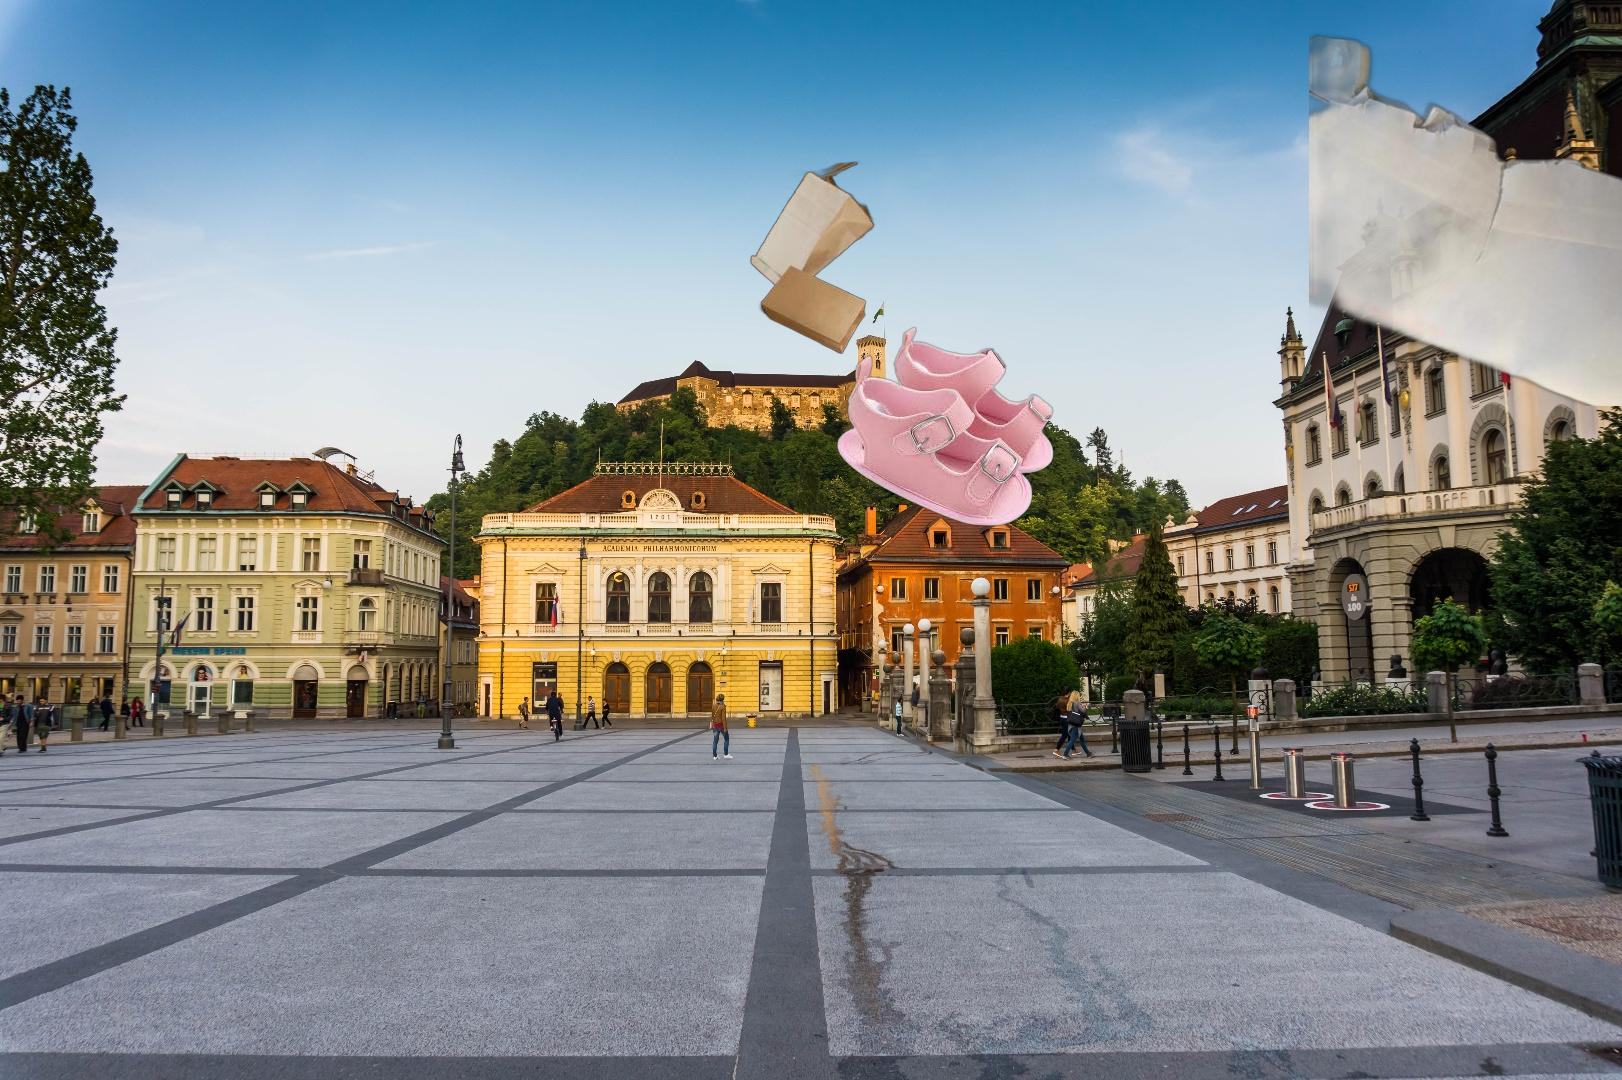paper: (1309, 22, 1622, 406)
paper-bag: (748, 159, 877, 356)
shoes: (834, 324, 1056, 529)
